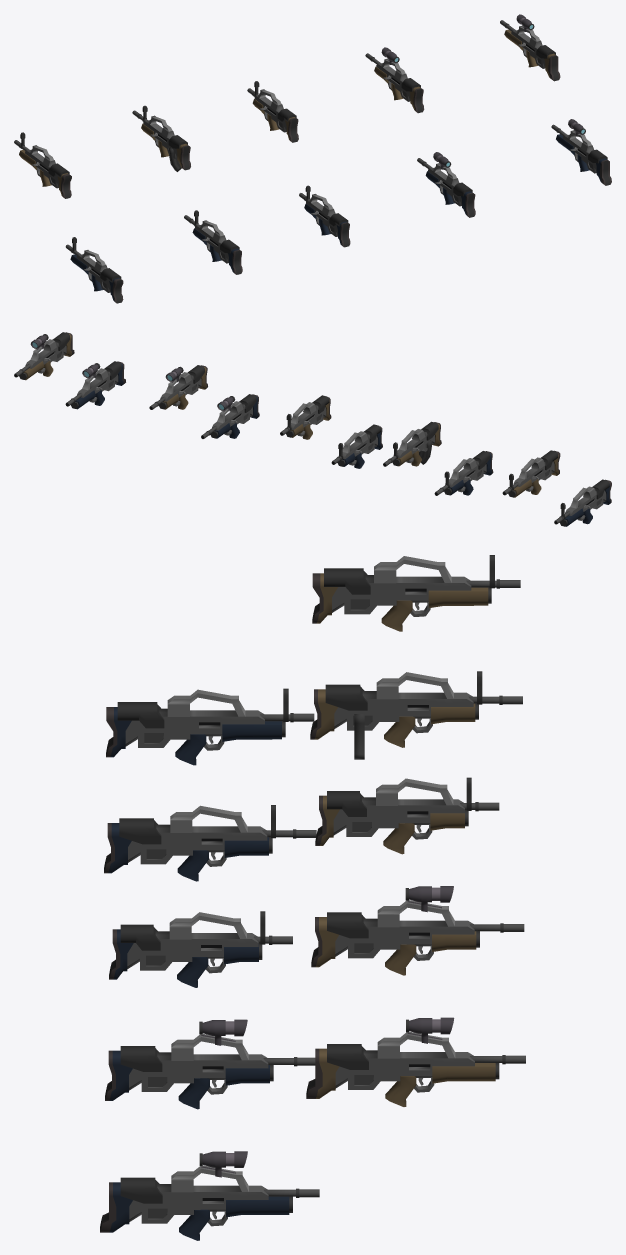
The model's file is L105Rifles.fbx.
3 views of the same model, one above another, from view 1: azimuth 30°, elevation 25°; view 2: azimuth 150°, elevation 25°; view 3: azimuth 270°, elevation 25° (orthographic). The views are drawn at different scales.
Parts seen in each view (by area): view 1: L105Long, L105LongBlue, L105SightBlue, L105Sight, L105M, L105MBlue, L105Blue, L105, L105Short, L105ShortBlue; view 2: L105Long, L105LongBlue, L105SightBlue, L105Sight, L105M, L105MBlue, L105Blue, L105, L105ShortBlue, L105Short; view 3: L105LongBlue, L105Long, L105Sight, L105SightBlue, L105MBlue, L105M, L105Blue, L105, L105Short, L105ShortBlue.
Boxes of the visible parts, bbox=[...] form: L105Long: bbox=[500, 14, 560, 81]; L105LongBlue: bbox=[551, 119, 611, 185]; L105SightBlue: bbox=[417, 152, 475, 217]; L105Sight: bbox=[365, 47, 424, 113]; L105M: bbox=[14, 132, 71, 198]; L105MBlue: bbox=[65, 237, 123, 303]; L105Blue: bbox=[184, 210, 242, 274]; L105: bbox=[132, 105, 190, 170]; L105Short: bbox=[247, 81, 298, 142]; L105ShortBlue: bbox=[299, 185, 350, 247]; L105Long: bbox=[14, 332, 74, 380]; L105LongBlue: bbox=[65, 361, 125, 409]; L105SightBlue: bbox=[201, 394, 259, 438]; L105Sight: bbox=[149, 365, 207, 409]; L105M: bbox=[502, 450, 560, 497]; L105MBlue: bbox=[554, 479, 611, 526]; L105Blue: bbox=[434, 451, 493, 495]; L105: bbox=[383, 421, 441, 466]; L105ShortBlue: bbox=[331, 424, 382, 468]; L105Short: bbox=[280, 395, 331, 439]; L105LongBlue: bbox=[100, 1151, 319, 1240]; L105Long: bbox=[306, 1017, 525, 1106]; L105Sight: bbox=[311, 886, 524, 975]; L105SightBlue: bbox=[105, 1019, 315, 1109]; L105MBlue: bbox=[106, 688, 314, 765]; L105M: bbox=[312, 555, 520, 631]; L105Blue: bbox=[104, 805, 316, 881]; L105: bbox=[310, 671, 522, 747]; L105Short: bbox=[315, 777, 499, 854]; L105ShortBlue: bbox=[109, 911, 292, 987].
Bounding box in the file's own units: 5 × 1.05 × 1.84.
